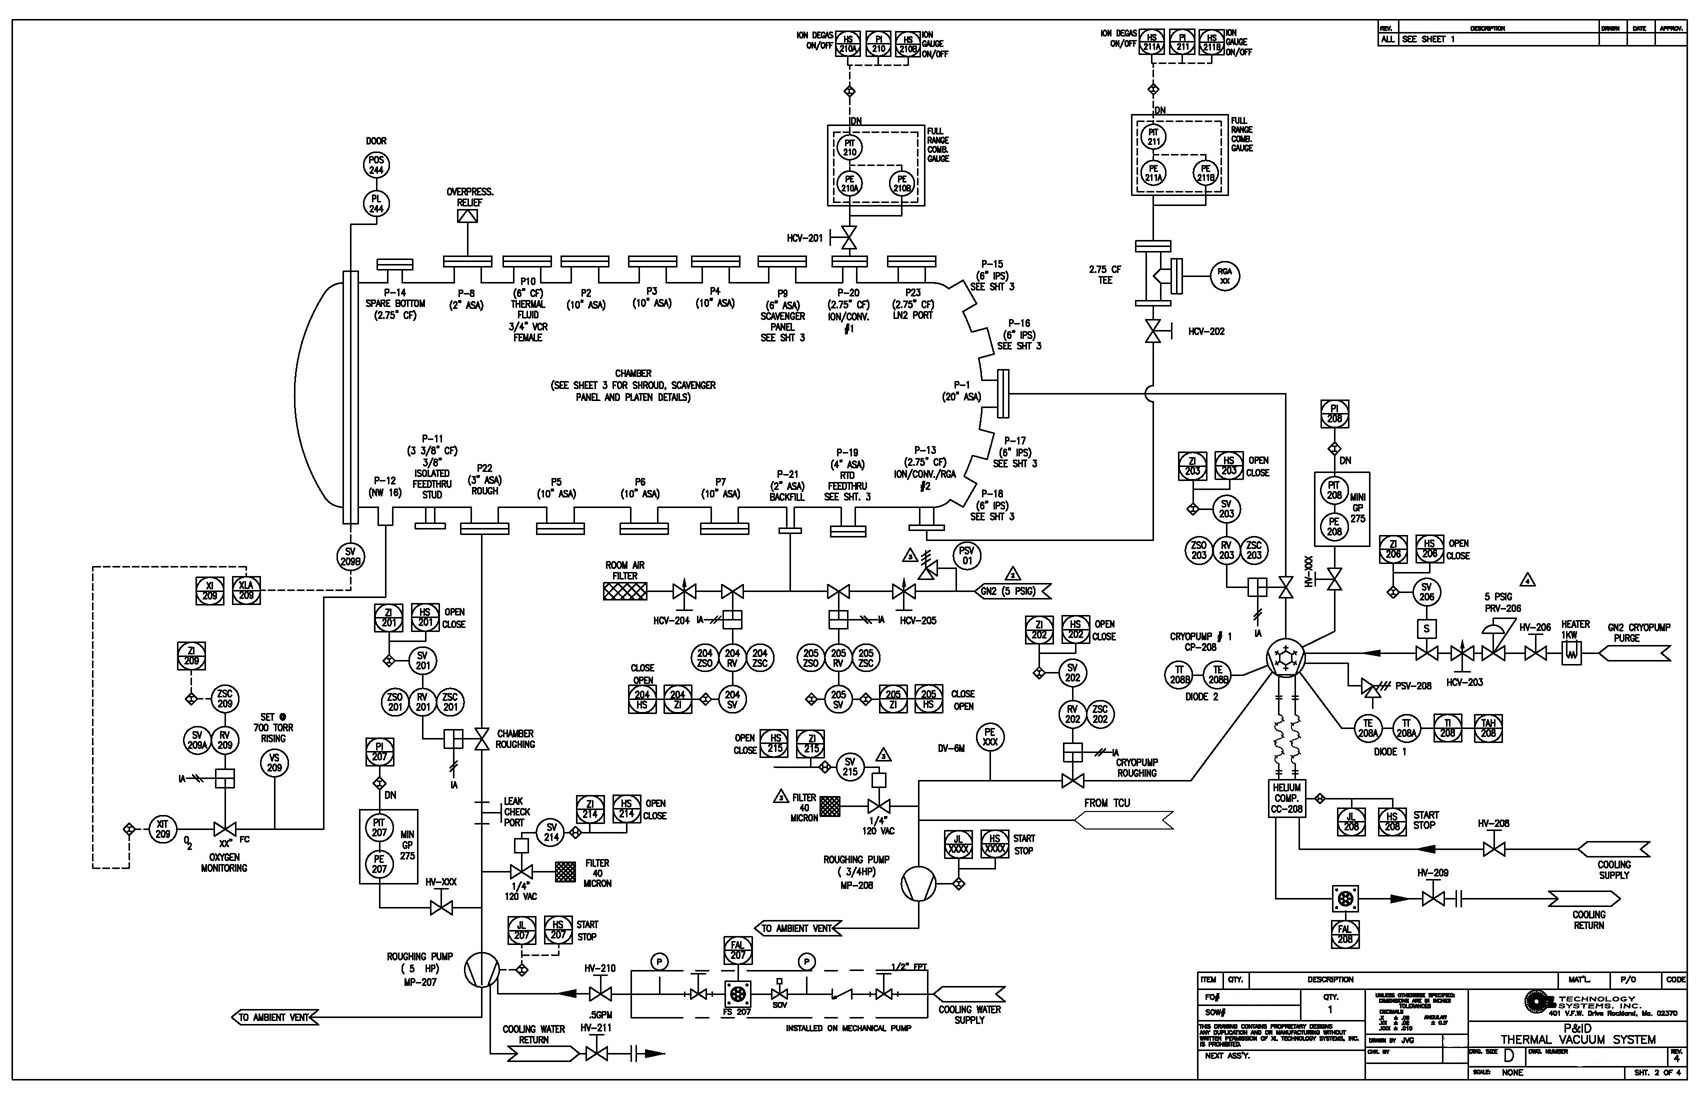circle: (689, 642, 722, 675), (335, 541, 369, 574), (1202, 659, 1234, 692), (835, 751, 867, 784), (1057, 657, 1090, 689), (975, 721, 1007, 754), (406, 645, 440, 678), (1411, 577, 1444, 609), (823, 684, 855, 716), (717, 684, 750, 716), (1057, 699, 1089, 731), (209, 725, 242, 757), (182, 725, 214, 757), (147, 814, 180, 846), (1209, 261, 1242, 294), (211, 683, 242, 716), (1353, 714, 1385, 744), (1320, 474, 1351, 507), (1320, 512, 1351, 544), (1239, 535, 1270, 567), (1185, 535, 1216, 567), (1212, 494, 1243, 526), (952, 541, 984, 572), (852, 642, 883, 674), (824, 642, 855, 674), (745, 643, 777, 674), (717, 642, 748, 674), (1085, 699, 1116, 731), (259, 748, 291, 779), (366, 849, 397, 881), (435, 687, 467, 718), (380, 687, 413, 718), (1163, 660, 1194, 691), (1391, 714, 1422, 744), (795, 643, 826, 674), (537, 818, 567, 849), (366, 813, 397, 844), (409, 686, 439, 718), (1213, 535, 1242, 567), (1139, 123, 1168, 152), (1192, 159, 1220, 188), (1140, 160, 1168, 188), (836, 170, 865, 198), (363, 151, 392, 180), (363, 190, 392, 218), (836, 134, 864, 164), (888, 170, 916, 199)
circlesquare: (373, 601, 406, 635), (1431, 711, 1465, 746), (1472, 711, 1505, 746), (1413, 533, 1447, 566), (1176, 450, 1211, 483), (176, 639, 209, 674), (1377, 534, 1410, 567), (1318, 398, 1352, 431), (979, 827, 1012, 861), (943, 829, 976, 862), (662, 683, 695, 716), (611, 793, 644, 826), (195, 575, 228, 608), (1212, 450, 1247, 482), (541, 914, 576, 946), (1330, 919, 1362, 953), (1377, 806, 1410, 839), (1059, 613, 1093, 645), (1023, 614, 1057, 647), (758, 727, 791, 761), (913, 683, 945, 716), (877, 683, 909, 716), (722, 935, 756, 967), (626, 684, 659, 716), (575, 794, 608, 826), (506, 914, 539, 946), (230, 575, 264, 607), (364, 736, 397, 769), (1334, 806, 1369, 837), (410, 602, 442, 634), (795, 728, 826, 761), (1137, 28, 1167, 57), (865, 30, 893, 59), (834, 30, 862, 59), (1168, 28, 1197, 57), (1198, 28, 1225, 58), (895, 31, 922, 59)
valve: (1479, 616, 1519, 665), (1448, 638, 1477, 676), (672, 577, 700, 614), (1142, 318, 1177, 348), (828, 224, 861, 253), (890, 581, 918, 613), (1313, 566, 1344, 595), (1523, 632, 1549, 665), (1420, 878, 1447, 909), (429, 887, 456, 918), (589, 972, 615, 1005), (584, 1033, 611, 1063), (1482, 829, 1508, 860), (1413, 643, 1442, 665), (508, 861, 537, 883), (865, 795, 895, 816), (472, 725, 493, 753), (719, 582, 748, 602), (875, 972, 895, 1002), (689, 972, 709, 1002), (825, 582, 852, 603), (1059, 772, 1088, 792), (212, 818, 239, 837), (1277, 575, 1296, 602), (769, 977, 791, 1001), (455, 208, 481, 225), (829, 986, 856, 1002)
